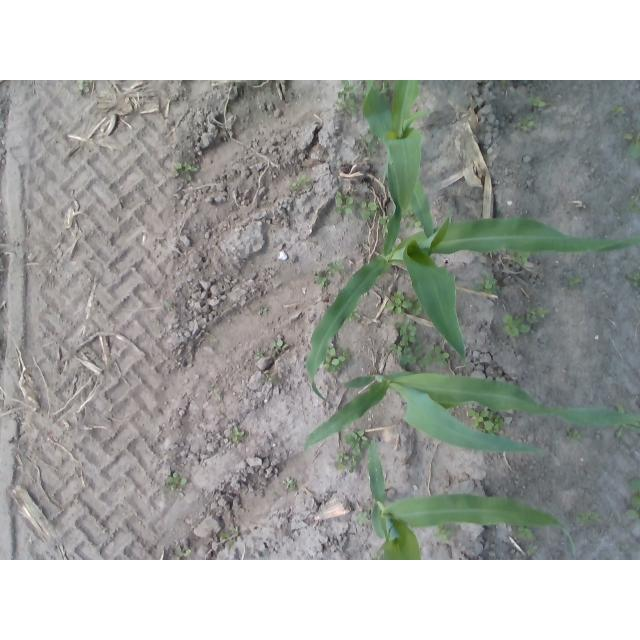Maize: (306, 165, 638, 408), (304, 370, 640, 452), (369, 437, 576, 560), (362, 80, 422, 221)
Weeds: (469, 410, 504, 431), (399, 345, 427, 368), (626, 478, 640, 521), (345, 430, 366, 454), (335, 191, 355, 216), (427, 346, 449, 366), (475, 276, 498, 295), (326, 349, 346, 369), (176, 163, 197, 182), (503, 315, 520, 338), (385, 299, 411, 314), (336, 98, 356, 115), (337, 81, 355, 99), (395, 322, 417, 336), (228, 427, 245, 444), (360, 201, 376, 219), (313, 270, 331, 286), (169, 473, 187, 488), (391, 341, 410, 355), (629, 135, 640, 159), (435, 526, 451, 541), (517, 527, 534, 541), (510, 252, 531, 263), (283, 477, 298, 491), (349, 458, 362, 474), (517, 118, 534, 130), (627, 273, 640, 288), (176, 545, 192, 557), (78, 80, 91, 94), (291, 176, 305, 189), (629, 195, 639, 212), (255, 347, 269, 359), (356, 511, 368, 525), (391, 291, 405, 303), (531, 96, 545, 107), (328, 262, 344, 271), (537, 307, 550, 318), (264, 371, 277, 382), (401, 333, 415, 343), (582, 512, 599, 520), (518, 324, 533, 332), (569, 278, 584, 286), (527, 546, 537, 557), (612, 106, 624, 115), (380, 82, 388, 95), (569, 429, 579, 439), (339, 452, 349, 462), (527, 315, 538, 324), (270, 341, 284, 348), (175, 488, 185, 497), (218, 533, 230, 540), (335, 462, 345, 470), (411, 307, 421, 315), (525, 309, 536, 316), (626, 135, 637, 141), (164, 301, 173, 308), (353, 310, 359, 319), (259, 309, 266, 316), (500, 80, 506, 88), (215, 391, 221, 398)
